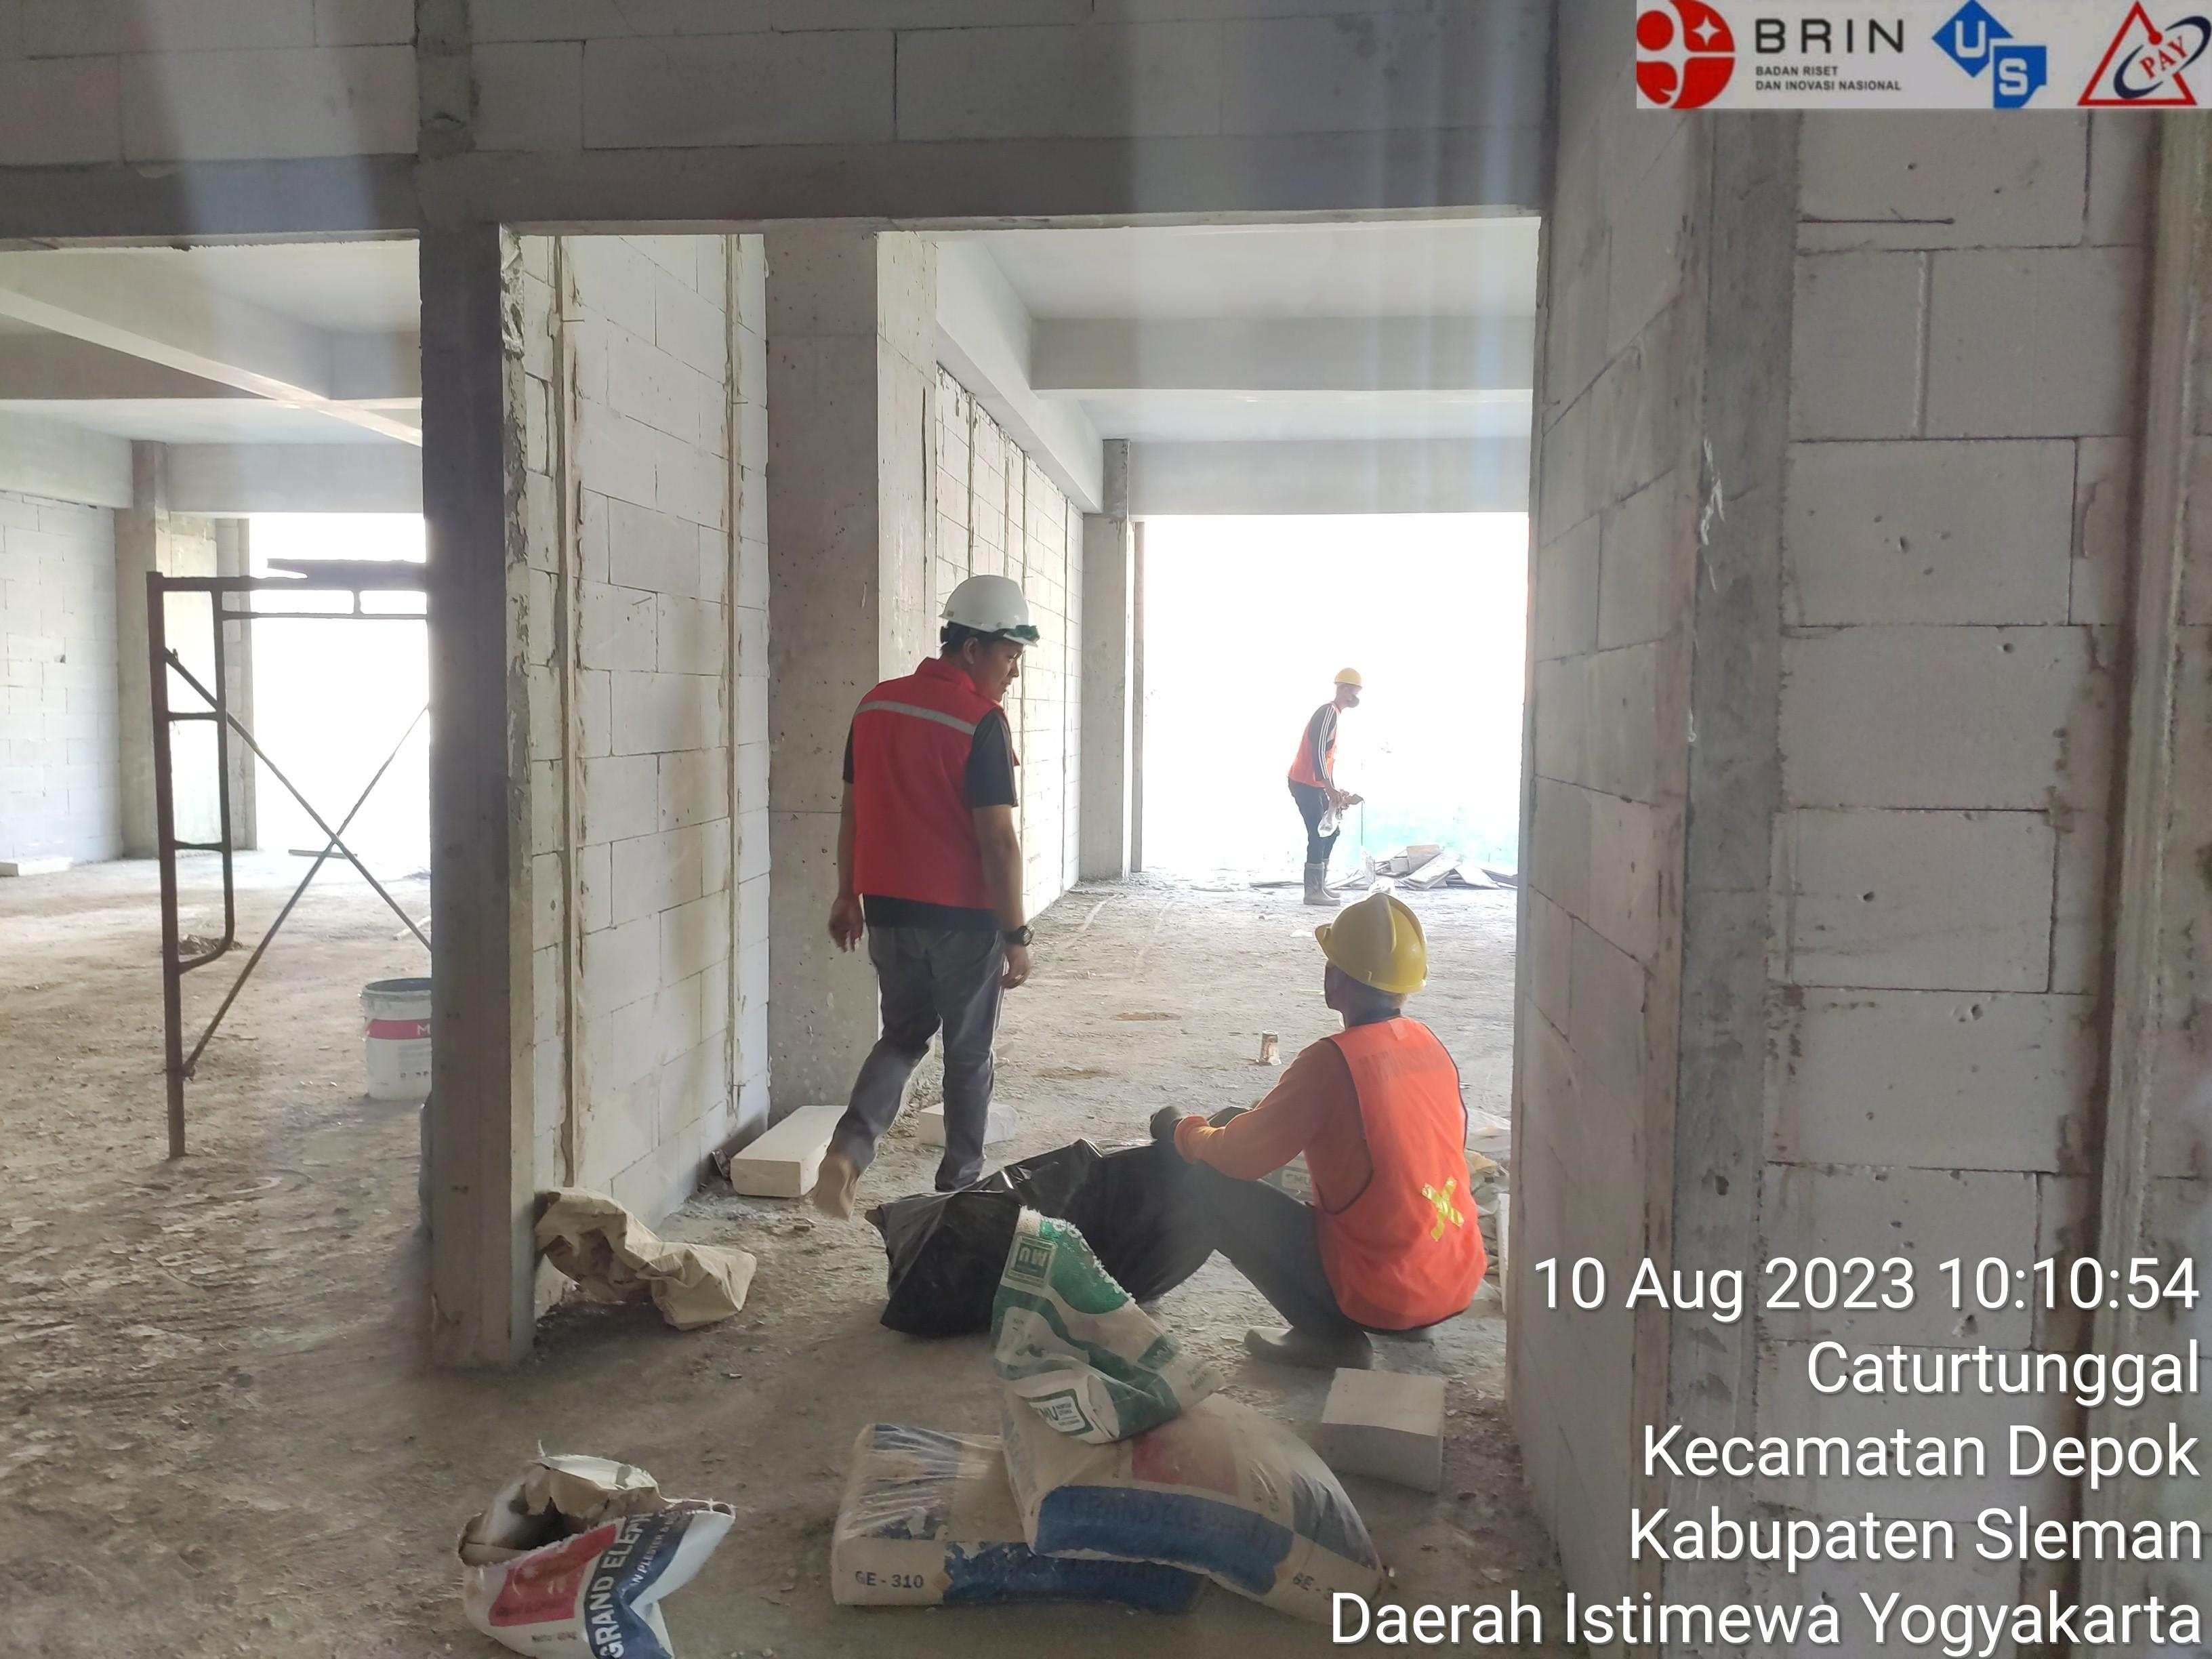hat: (1285, 857, 1472, 1040), (909, 516, 1057, 674), (1322, 631, 1383, 716)
vest: (1268, 1014, 1505, 1394), (810, 645, 1035, 993), (1278, 688, 1360, 828)
